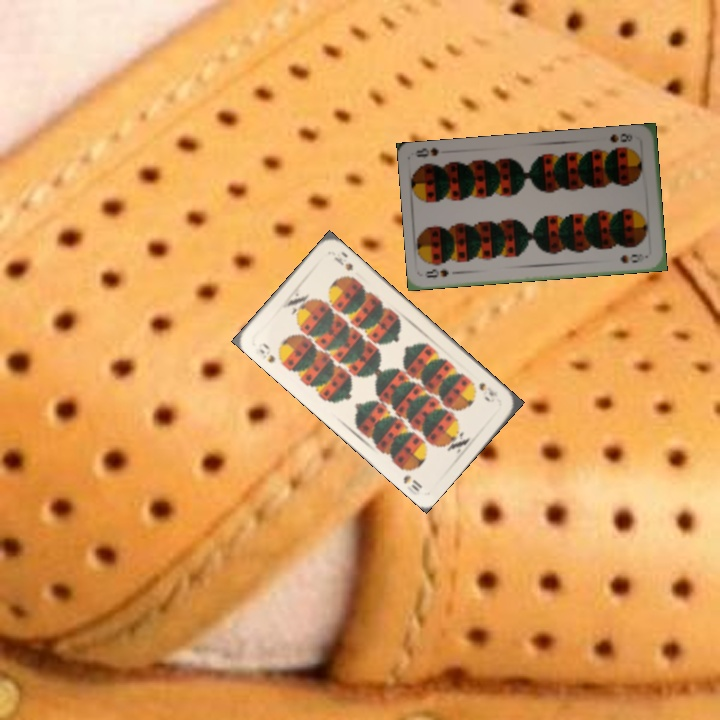S10: (255, 339, 278, 365), (475, 379, 501, 399)
S8: (421, 265, 451, 281), (606, 129, 635, 145)
